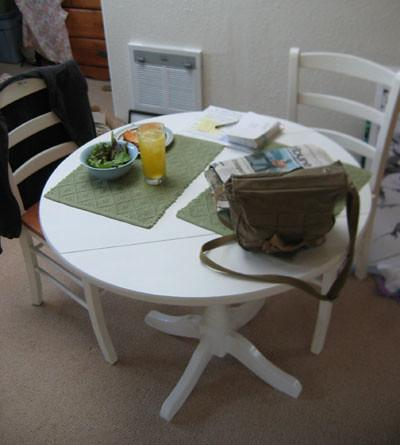table: (38, 106, 370, 423)
